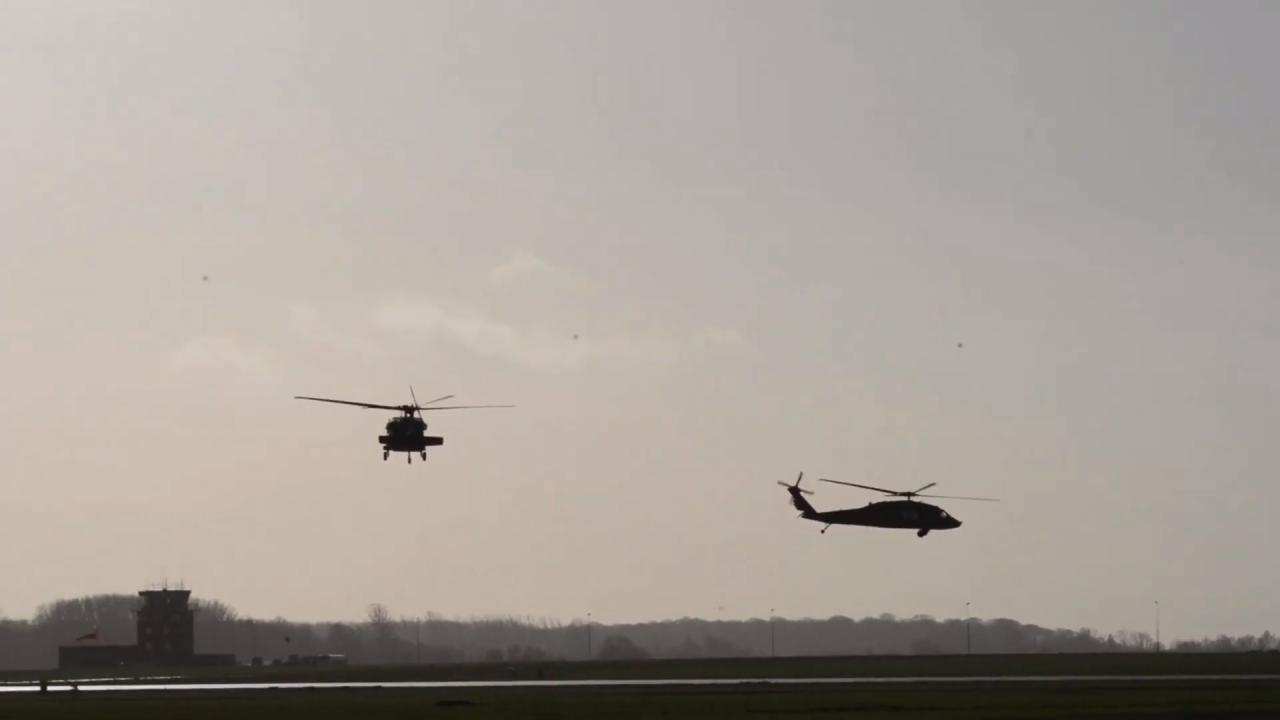Helicopter: (756, 431, 1010, 580), (278, 352, 534, 491)
